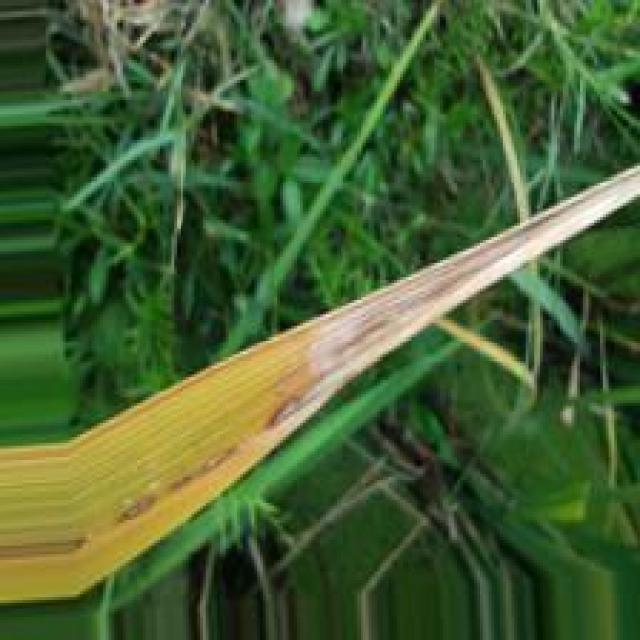Narrow_Brown_Leaf_Spot: (0, 166, 640, 568)
